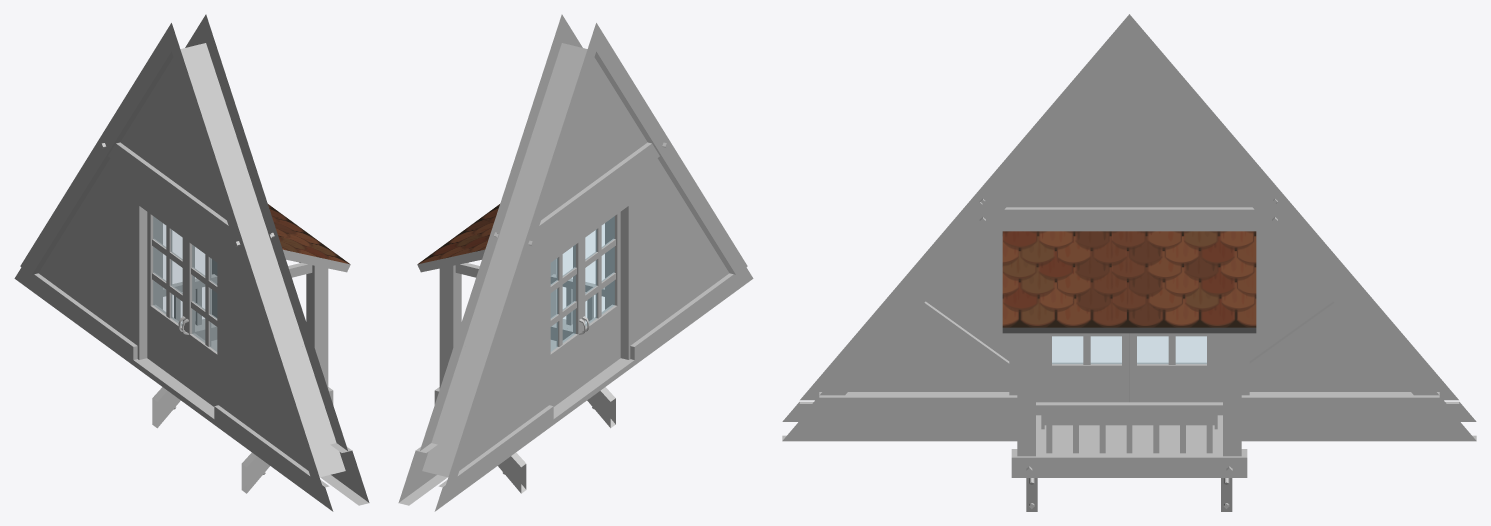
File: Wall_Ext_Top_End_03_B.FBX
The picture shows the model from 3 angles, left to right: view 1: azimuth 30°, elevation 25°; view 2: azimuth 150°, elevation 25°; view 3: azimuth 270°, elevation 25°; orthographic projection. The views are drawn at different scales.
Parts seen in each view (by area): view 1: Wall_Ext_Top_End_03_B, Door_B, Door_A; view 2: Wall_Ext_Top_End_03_B, Door_A, Door_B; view 3: Wall_Ext_Top_End_03_B, Door_B, Door_A.
Part boxes in pixels (bbox=[...]): Wall_Ext_Top_End_03_B: bbox=[14, 14, 369, 511]; Door_B: bbox=[147, 212, 186, 386]; Door_A: bbox=[182, 240, 217, 406]; Wall_Ext_Top_End_03_B: bbox=[398, 14, 753, 511]; Door_A: bbox=[581, 212, 620, 386]; Door_B: bbox=[550, 240, 585, 406]; Wall_Ext_Top_End_03_B: bbox=[782, 14, 1476, 511]; Door_B: bbox=[1129, 333, 1214, 425]; Door_A: bbox=[1044, 333, 1129, 425].
Size of the model in its own units: 2.92 by 9.98 by 13.
